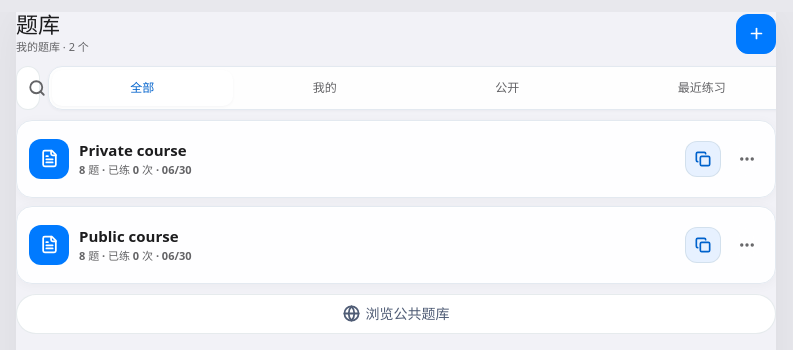
CourseList UX polish › filters private and public courses without changing the API shape
This screenshot has width=793, height=350.
Expected: the tab "我的" is shown, x1=234 y1=70 x2=415 y2=106
Click the tab "公开" at (507, 88), box x1=417 y1=70 x2=598 y2=106
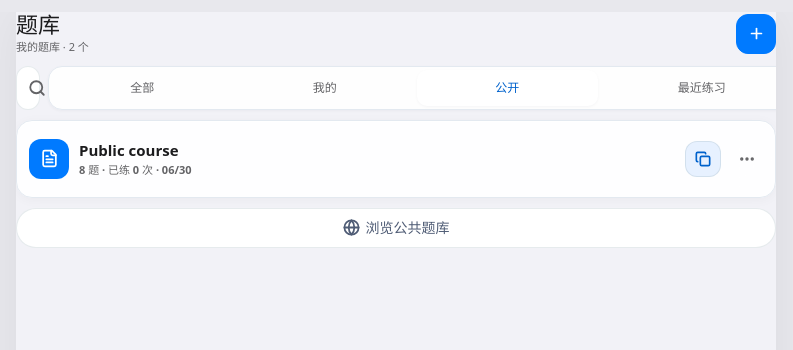
Expected: the text "Public course" is shown, x1=79 y1=140 x2=178 y2=160
Result: the text "Private course" is gone
